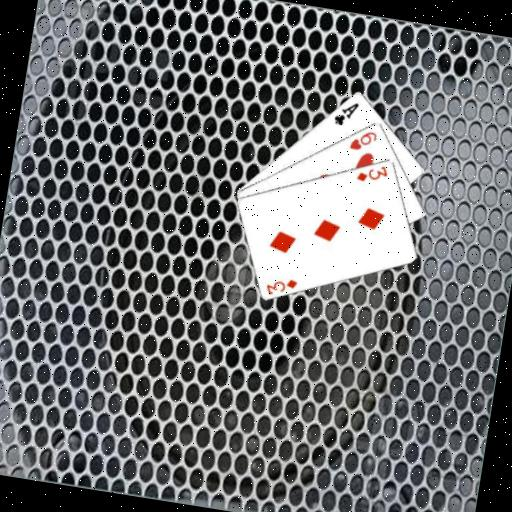3D: (262, 271, 300, 300), (352, 158, 390, 186)
6H: (346, 125, 380, 154)
AC: (330, 96, 361, 129)
